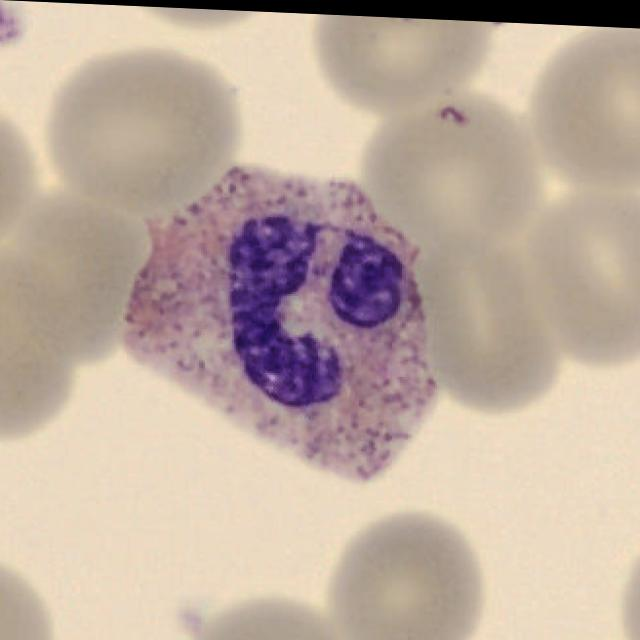Neutrofilo segmentado: (123, 164, 439, 481)
